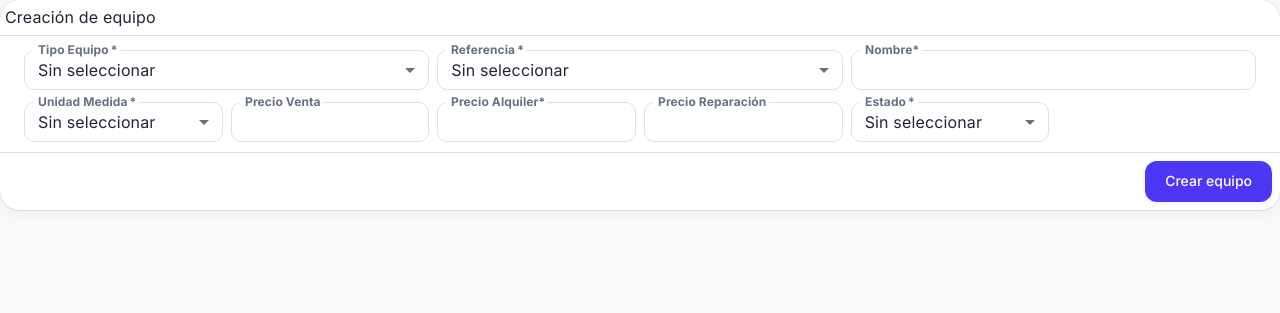
FormularioCrearEquipo › valida los precios al vuelo
The width and height of the screenshot is (1280, 313).
Type "0" into the number field labelled "Precio Alquiler*" at (537, 122), box [437,102,636,142]
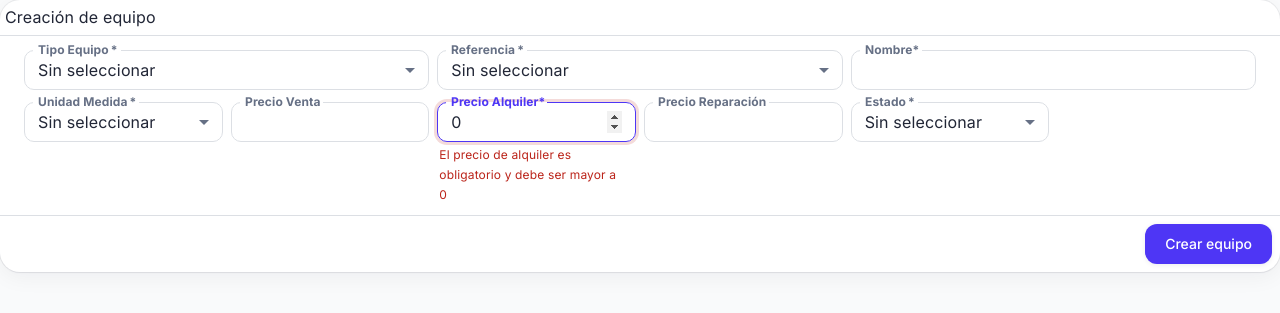
Expected: the text "El precio de alquiler es obligatorio y debe ser mayor a 0" is shown, [439,145,622,205]
Type "-1" into the number field labelled "Precio Venta" at (330, 122), box [231,102,429,142]
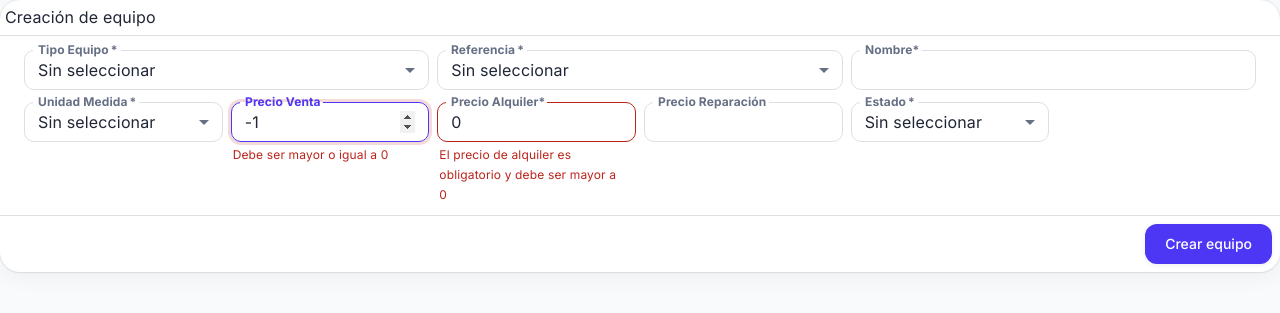
Expected: the text "Debe ser mayor o igual a 0" is shown, [233,145,415,165]
Clear the number field labelled "Precio Venta" at (330, 122), box [231,102,429,142]
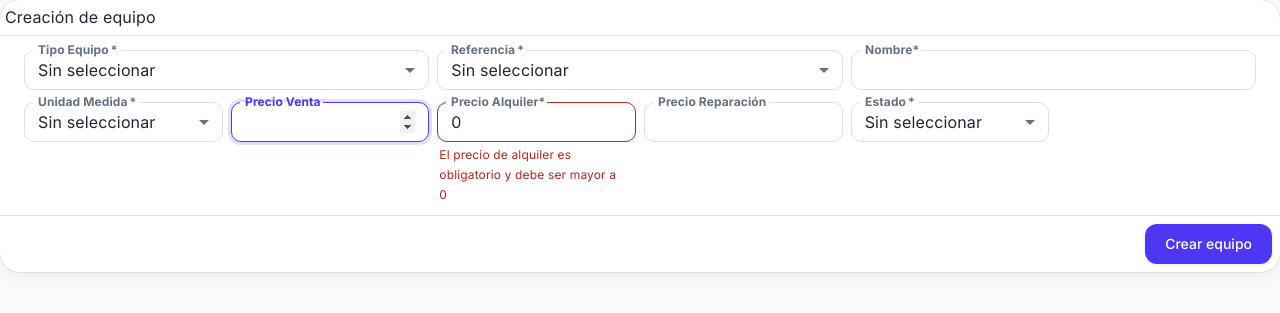
Expected: the text "Debe ser mayor o igual a 0" is gone
Type "a" into the field labelled "Nombre*" at (1053, 70), box [851,50,1256,90]
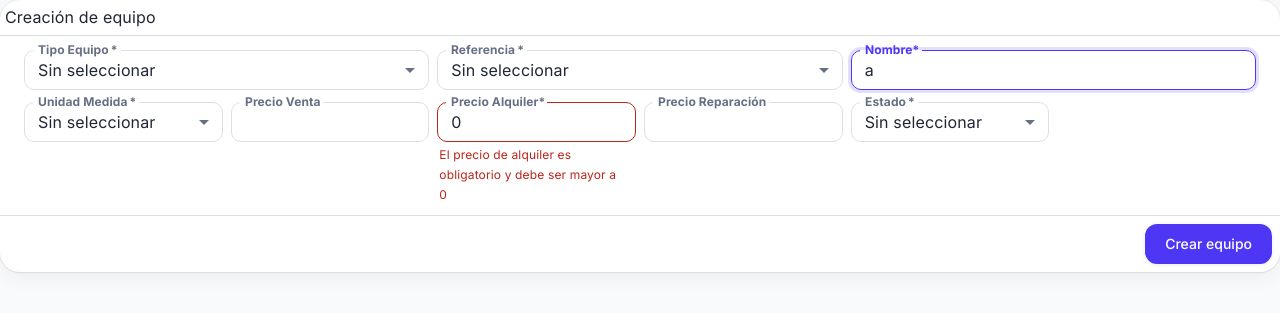
Clear the field labelled "Nombre*" at (1053, 70), box [851,50,1256,90]
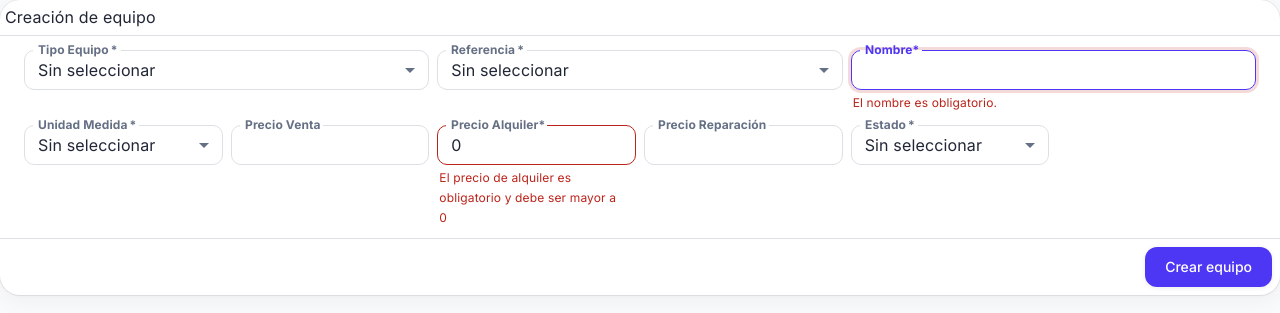
Expected: the text "El nombre es obligatorio." is shown, [853,95,997,110]
